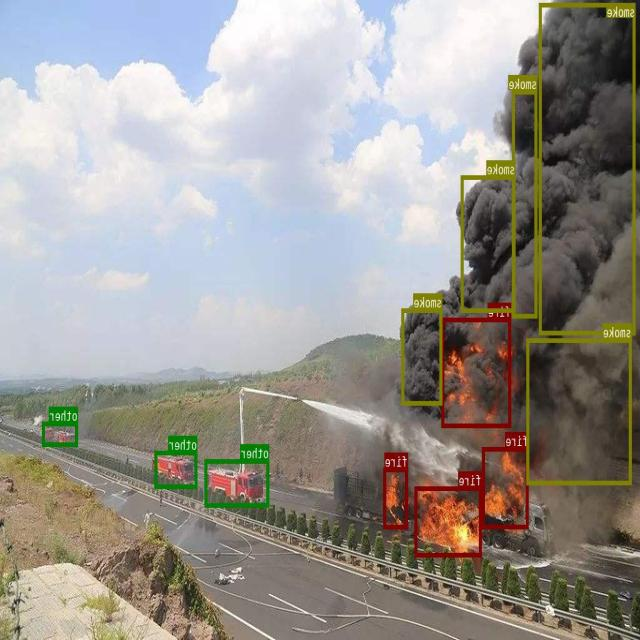fire: (442, 317, 512, 426), (416, 486, 482, 556), (483, 447, 529, 528), (384, 467, 408, 528)
other: (206, 458, 270, 507), (155, 451, 198, 488), (43, 421, 79, 446)
smoke: (540, 2, 636, 334), (527, 338, 632, 484), (462, 174, 516, 312), (513, 89, 538, 317), (402, 308, 443, 404)
